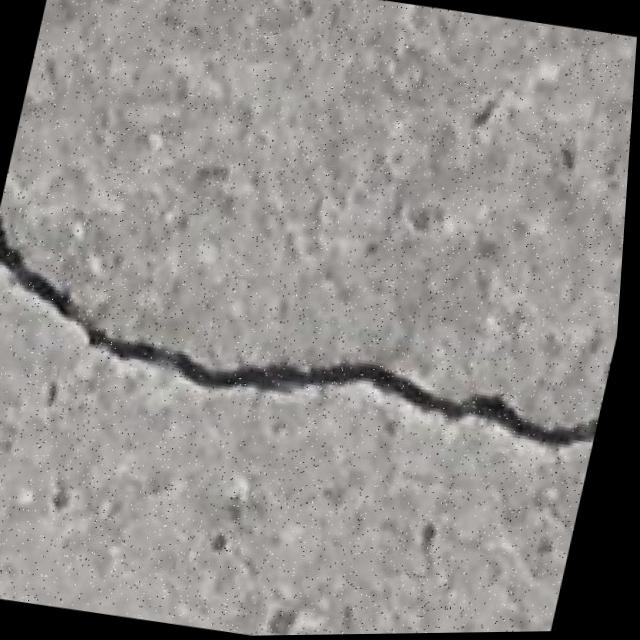Crack: (0, 202, 629, 486)
